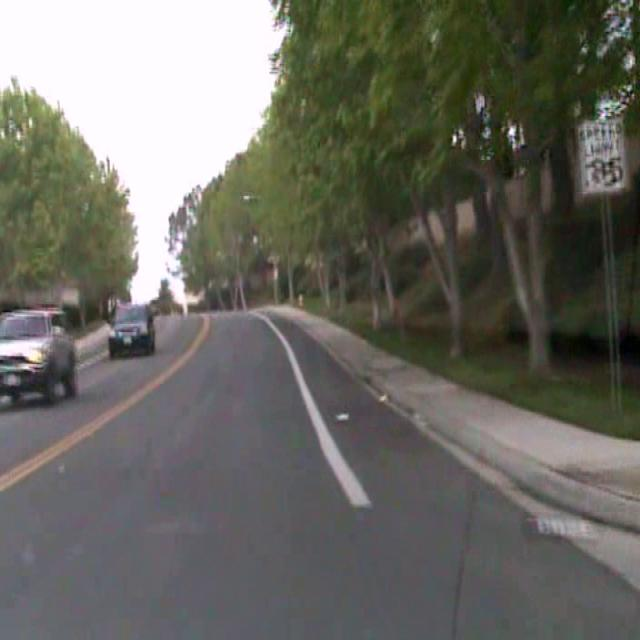speedLimit35: (575, 114, 630, 198)
